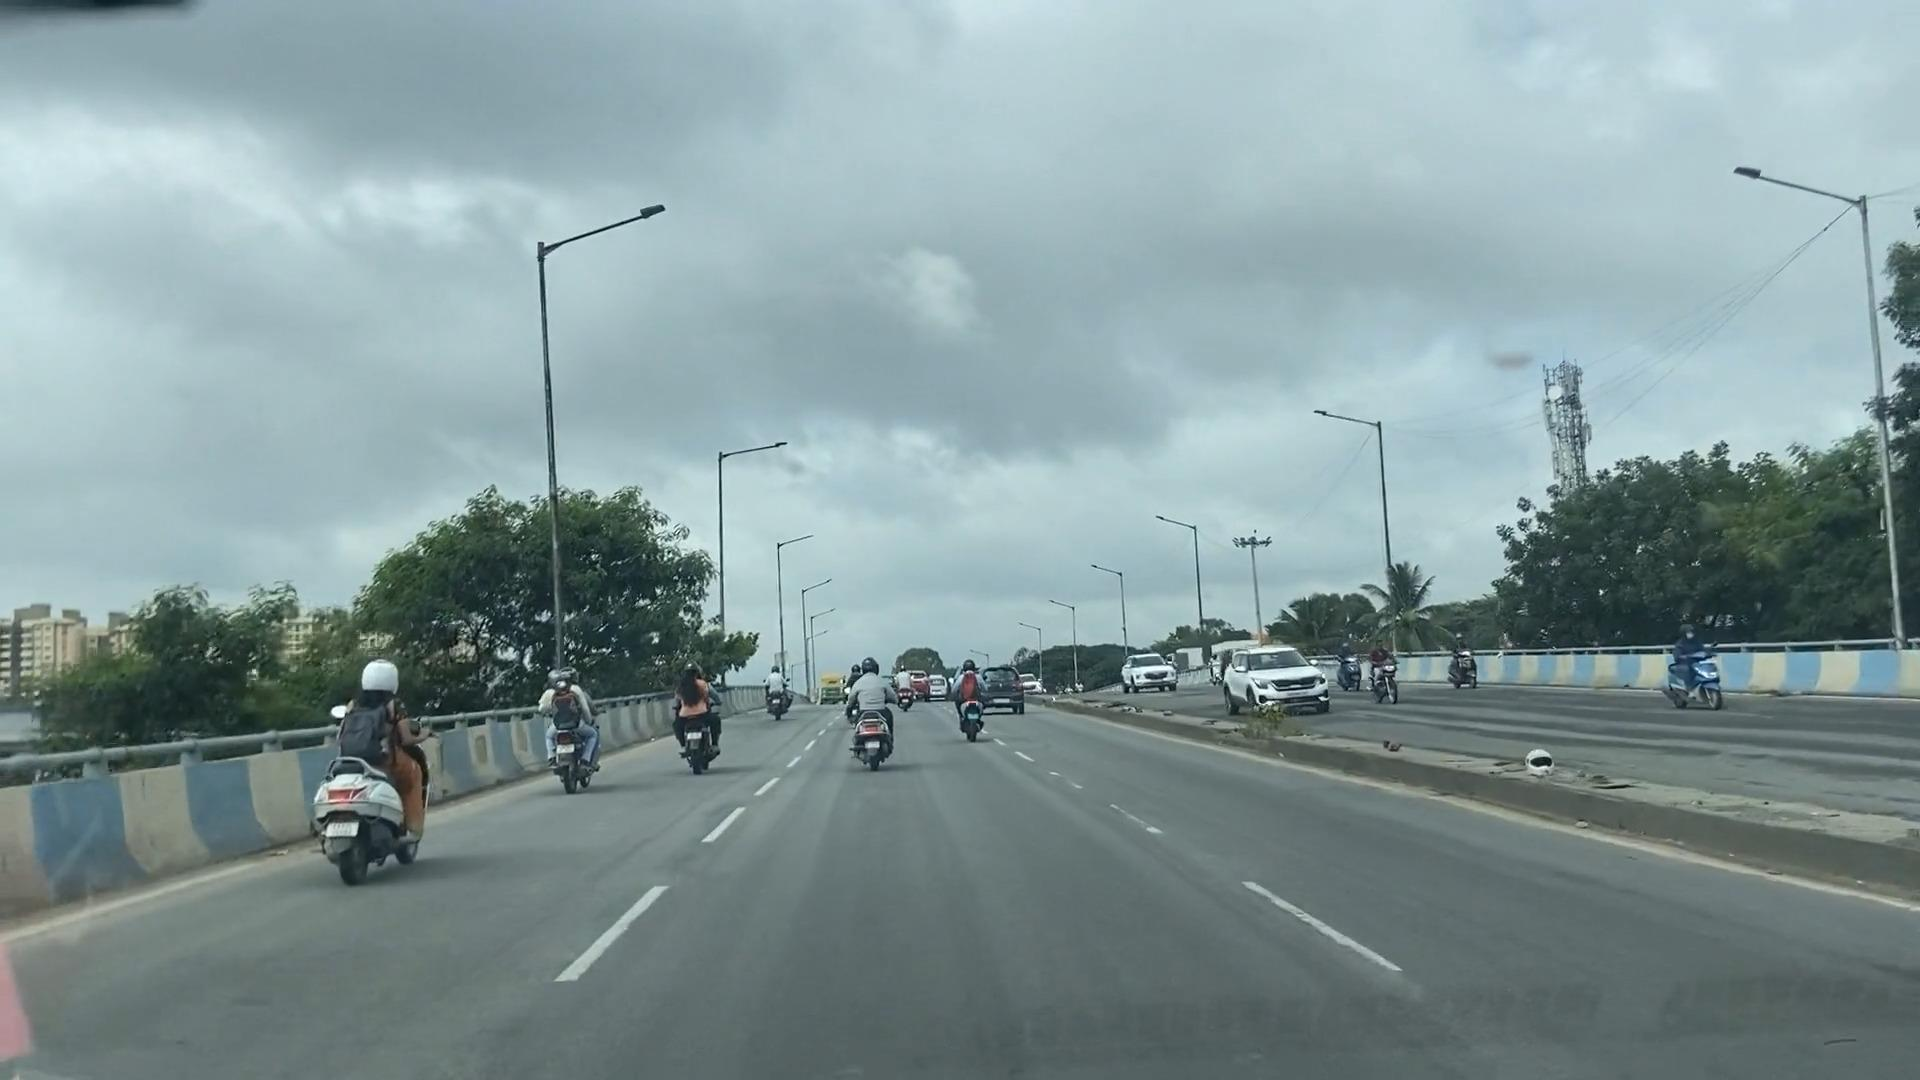LMV: (326, 654, 415, 909), (527, 655, 604, 793), (669, 661, 729, 779), (851, 647, 890, 779), (948, 650, 997, 752), (760, 665, 799, 731)
